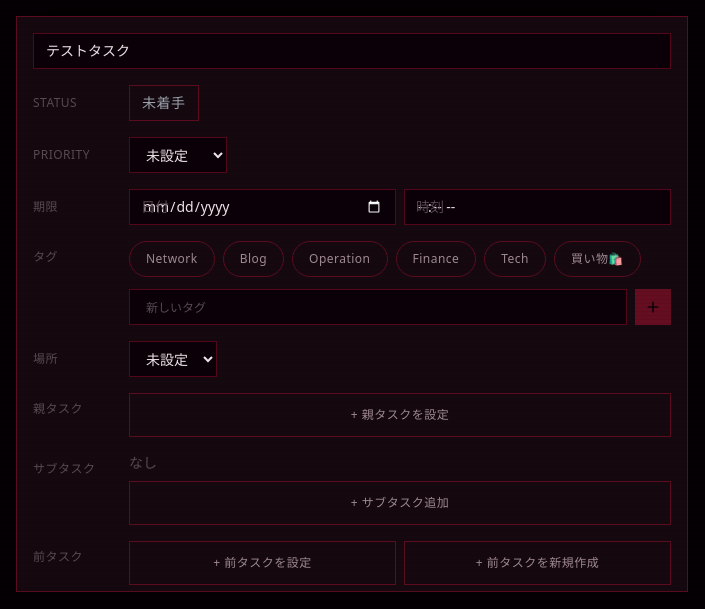
Test: TaskDetail サブタスク › サブタスク追加ボタンで子タスク作成フォームが開く
What coordinates should you click on to do the following:
click the button with test id "subtask-add-button"
I would click on:
 (400, 503)
Its box is [129,481,671,525].
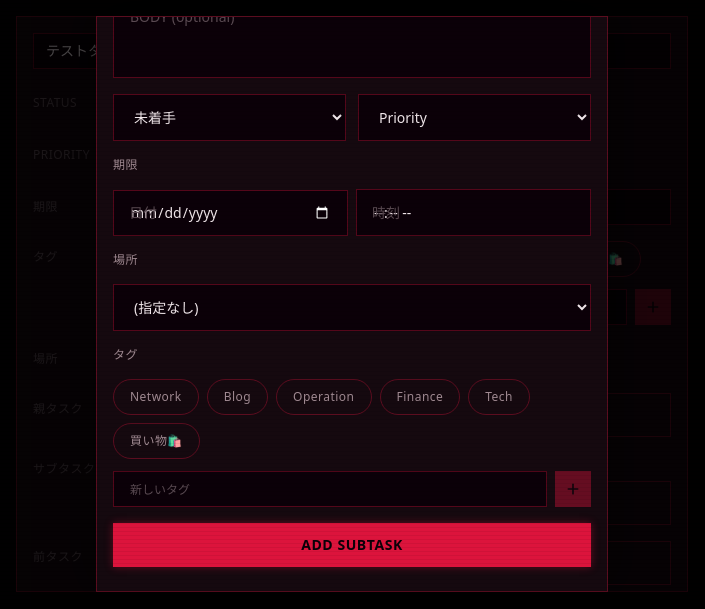
expect the button "ADD SUBTASK" is shown: met, box [113,523,591,567]
